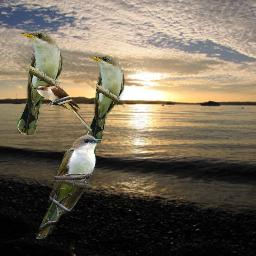Cuckoo: (35, 133, 101, 239), (17, 31, 63, 135), (86, 55, 125, 144), (32, 85, 93, 132)
